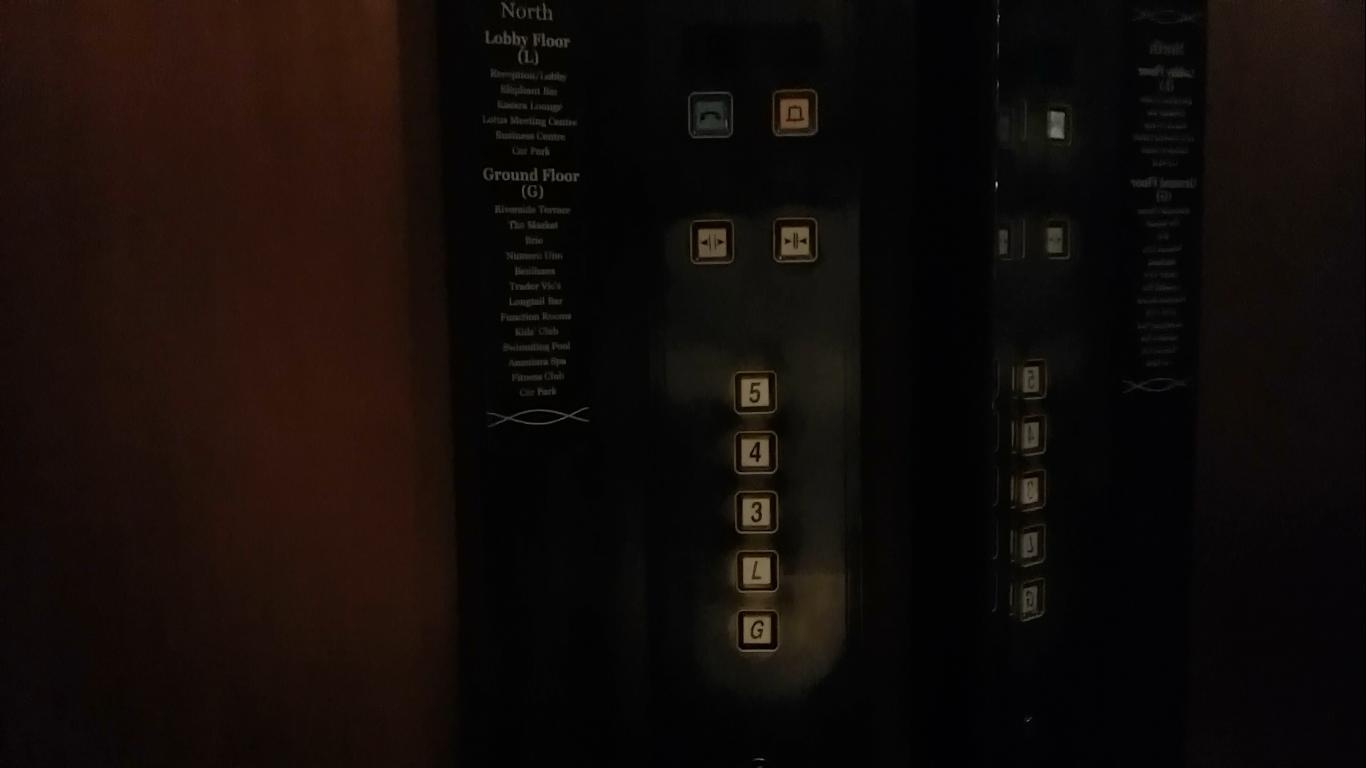3: (729, 484, 783, 538)
4: (729, 426, 781, 479)
5: (729, 366, 781, 419)
G: (731, 603, 784, 656)
L: (732, 545, 783, 599)
alarm: (767, 85, 820, 140)
call: (685, 88, 738, 143)
close: (767, 212, 822, 268)
open: (683, 214, 740, 269)
unknown: (1007, 403, 1054, 463), (1005, 519, 1051, 573), (1006, 466, 1053, 517), (1005, 575, 1052, 626), (1008, 352, 1052, 405)
